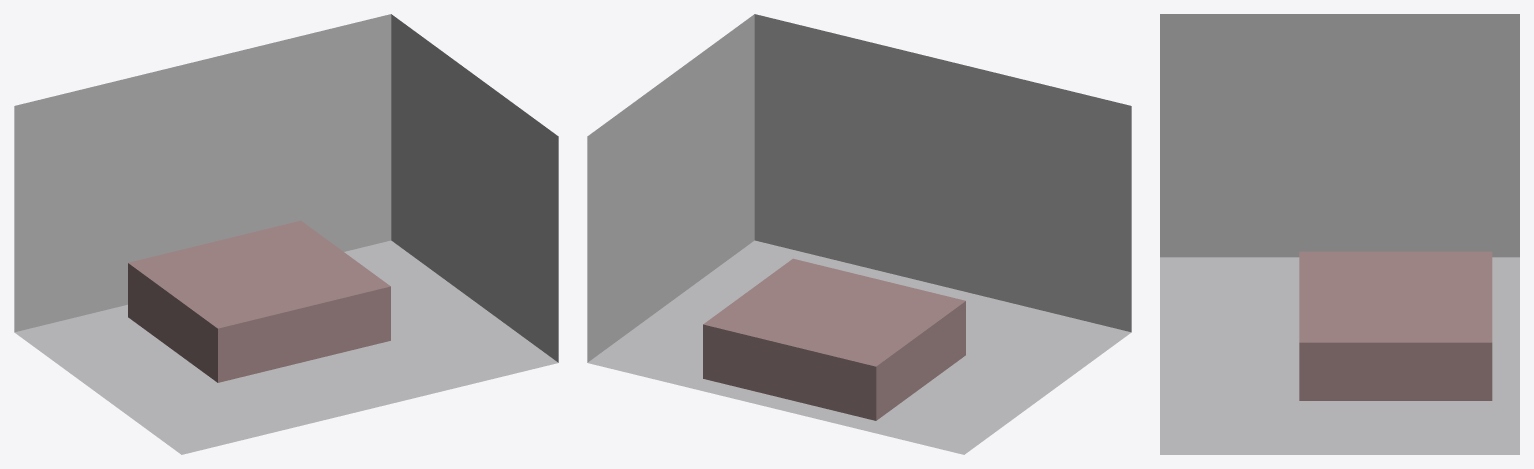
The model's file is current_layout.glb.
3 views of the same model, side by side, from view 1: azimuth 30°, elevation 25°; view 2: azimuth 150°, elevation 25°; view 3: azimuth 270°, elevation 25° (orthographic). The views are drawn at different scales.
Parts seen in each view (by area): view 1: room, bed; view 2: room, bed; view 3: room, bed.
Part boxes in pixels (left/top/right/bottom): room: left=14, top=14, right=558, bottom=454; bed: left=128, top=220, right=390, bottom=382; room: left=587, top=14, right=1131, bottom=454; bed: left=703, top=258, right=965, bottom=420; room: left=1160, top=14, right=1519, bottom=454; bed: left=1299, top=251, right=1492, bottom=400.
Size of the model in its own units: 4.36 by 2.5 by 3.35.
